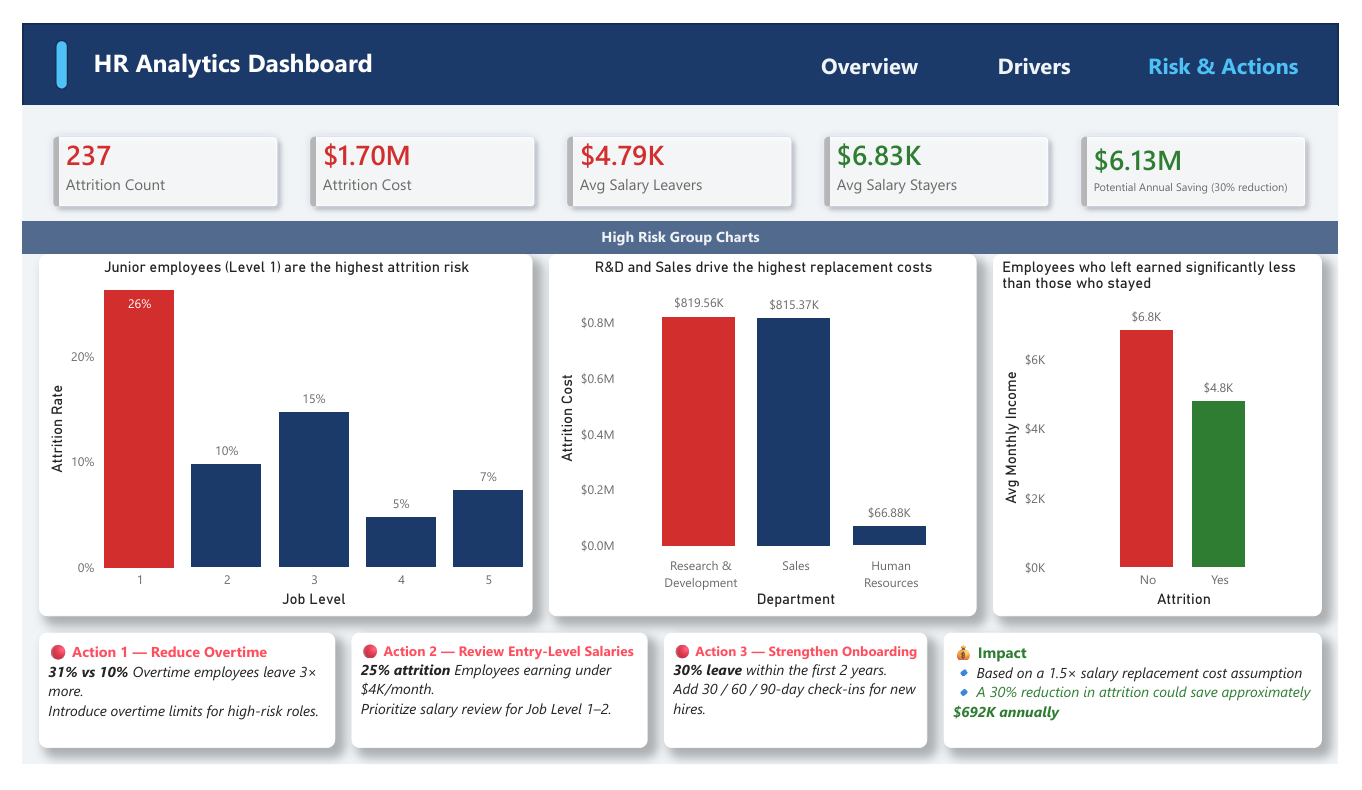

The dashboard page shown, as its layout file describes it:
{"tool":"powerbi","page":{"name":"Risk & Actions","canvas":[1280,720],"ordinal":2},"visuals":[{"type":"shape","box":[0,0,1280,80],"z":0},{"type":"textbox","box":[64,16,304,48],"z":1000},{"type":"shape","box":[32,16,12,48],"z":2000},{"type":"columnChart","title":"Junior employees (Level 1) are the highest attrition risk","fields":{"Category":["WA_Fn-UseC_-HR-Employee-Attrition.JobLevel"],"Y":["_All Measures.Attrition Rate"]},"box":[16,224,480,352],"z":3000},{"type":"columnChart","title":"R&D and Sales drive the highest replacement costs","fields":{"Category":["WA_Fn-UseC_-HR-Employee-Attrition.Department"],"Y":["_All Measures.Attrition Cost"]},"box":[512,224,416,352],"z":4000},{"type":"textbox","box":[16,592,288,112],"z":5000},{"type":"clusteredColumnChart","title":"Employees who left earned significantly less than those who stayed","fields":{"Category":["WA_Fn-UseC_-HR-Employee-Attrition.Attrition"],"Y":["_All Measures.Avg Monthly Income"]},"box":[944,224,320,352],"z":6000},{"type":"textbox","box":[320,592,288,112],"z":7000},{"type":"textbox","box":[624,592,256,112],"z":8000},{"type":"actionButton","box":[768,16,112,48],"z":9000},{"type":"actionButton","box":[944,16,80,48],"z":10000},{"type":"actionButton","box":[1088,16,160,48],"z":11000},{"type":"cardVisual","fields":{"Data":["_All Measures.Attrition Count","_All Measures.Attrition Cost","_All Measures.Avg Salary Leavers","_All Measures.Avg Salary Stayers","_All Measures.Potential Annual Saving (30% reduction)"]},"box":[0,80,1280,128],"z":12000},{"type":"textbox","box":[0,192,1280,32],"z":13000},{"type":"textbox","box":[896,592,368,112],"z":14000}]}

Visuals, with their boxes on the page's 1280x720 design canvas (x1, y1, x2, y2). These are canvas units, not pixel positions in the 1362x790 screenshot, which may show the page scaled, cropped or inside an application window:
shape: [left=0, top=0, right=1280, bottom=80]
textbox: [left=64, top=16, right=368, bottom=64]
shape: [left=32, top=16, right=44, bottom=64]
"Junior employees (Level 1) are the highest attrition risk" columnChart: [left=16, top=224, right=496, bottom=576]
"R&D and Sales drive the highest replacement costs" columnChart: [left=512, top=224, right=928, bottom=576]
textbox: [left=16, top=592, right=304, bottom=704]
"Employees who left earned significantly less than those who stayed" clusteredColumnChart: [left=944, top=224, right=1264, bottom=576]
textbox: [left=320, top=592, right=608, bottom=704]
textbox: [left=624, top=592, right=880, bottom=704]
actionButton: [left=768, top=16, right=880, bottom=64]
actionButton: [left=944, top=16, right=1024, bottom=64]
actionButton: [left=1088, top=16, right=1248, bottom=64]
cardVisual - _All Measures.Attrition Count x _All Measures.Attrition Cost: [left=0, top=80, right=1280, bottom=208]
textbox: [left=0, top=192, right=1280, bottom=224]
textbox: [left=896, top=592, right=1264, bottom=704]
